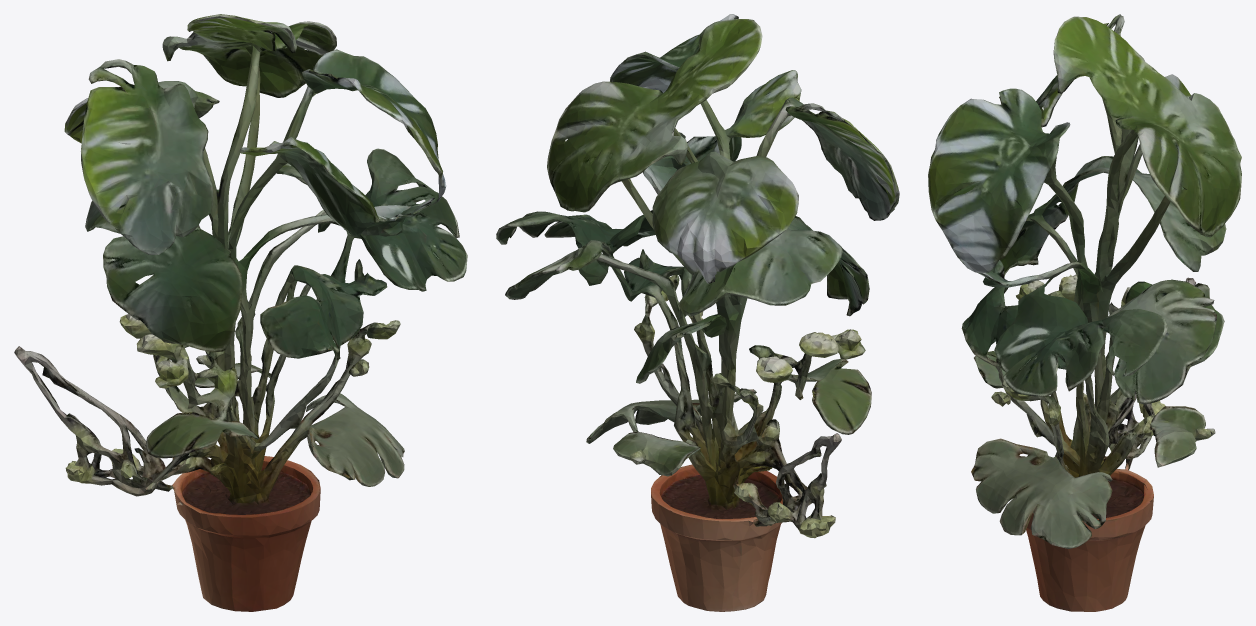
The model's file is ast_829e24c0efb7.glb.
3 renders of one model, left to right at view 1: azimuth 30°, elevation 25°; view 2: azimuth 150°, elevation 25°; view 3: azimuth 270°, elevation 25°, orthographic. The views are drawn at different scales.
Visible parts, largest first — view 1: geometry_0; view 2: geometry_0; view 3: geometry_0.
Boxes of the visible parts, box(x1,y1,x2,y2) form: geometry_0: box(14, 14, 467, 611); geometry_0: box(496, 14, 899, 611); geometry_0: box(928, 14, 1241, 611).
Bounding box in the file's own units: 0.6821 × 1 × 0.5058.
1 material, 1 textured.
